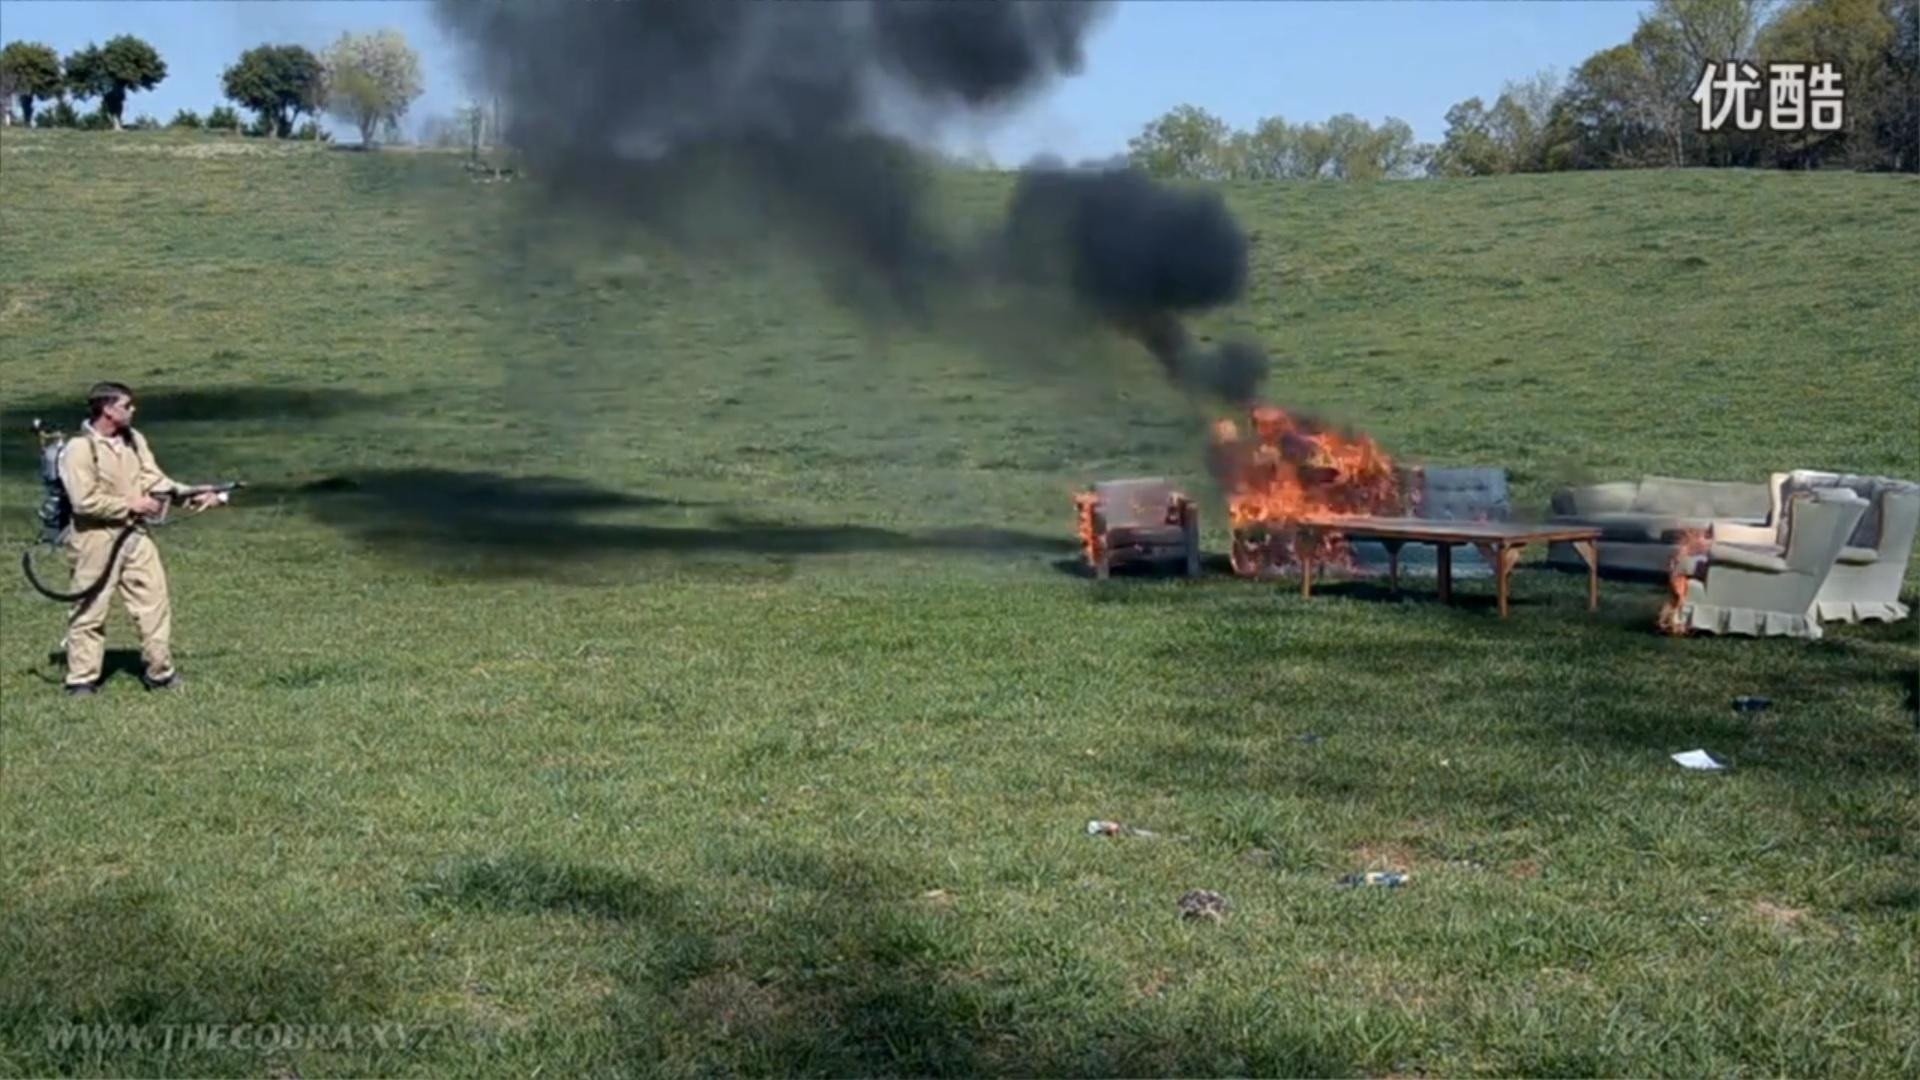fire: (1213, 405, 1402, 580), (1071, 489, 1106, 572)
